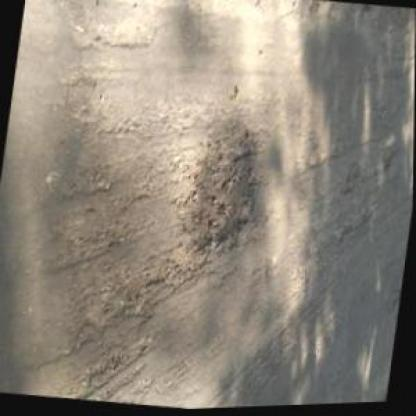pothole: (174, 122, 266, 262)
